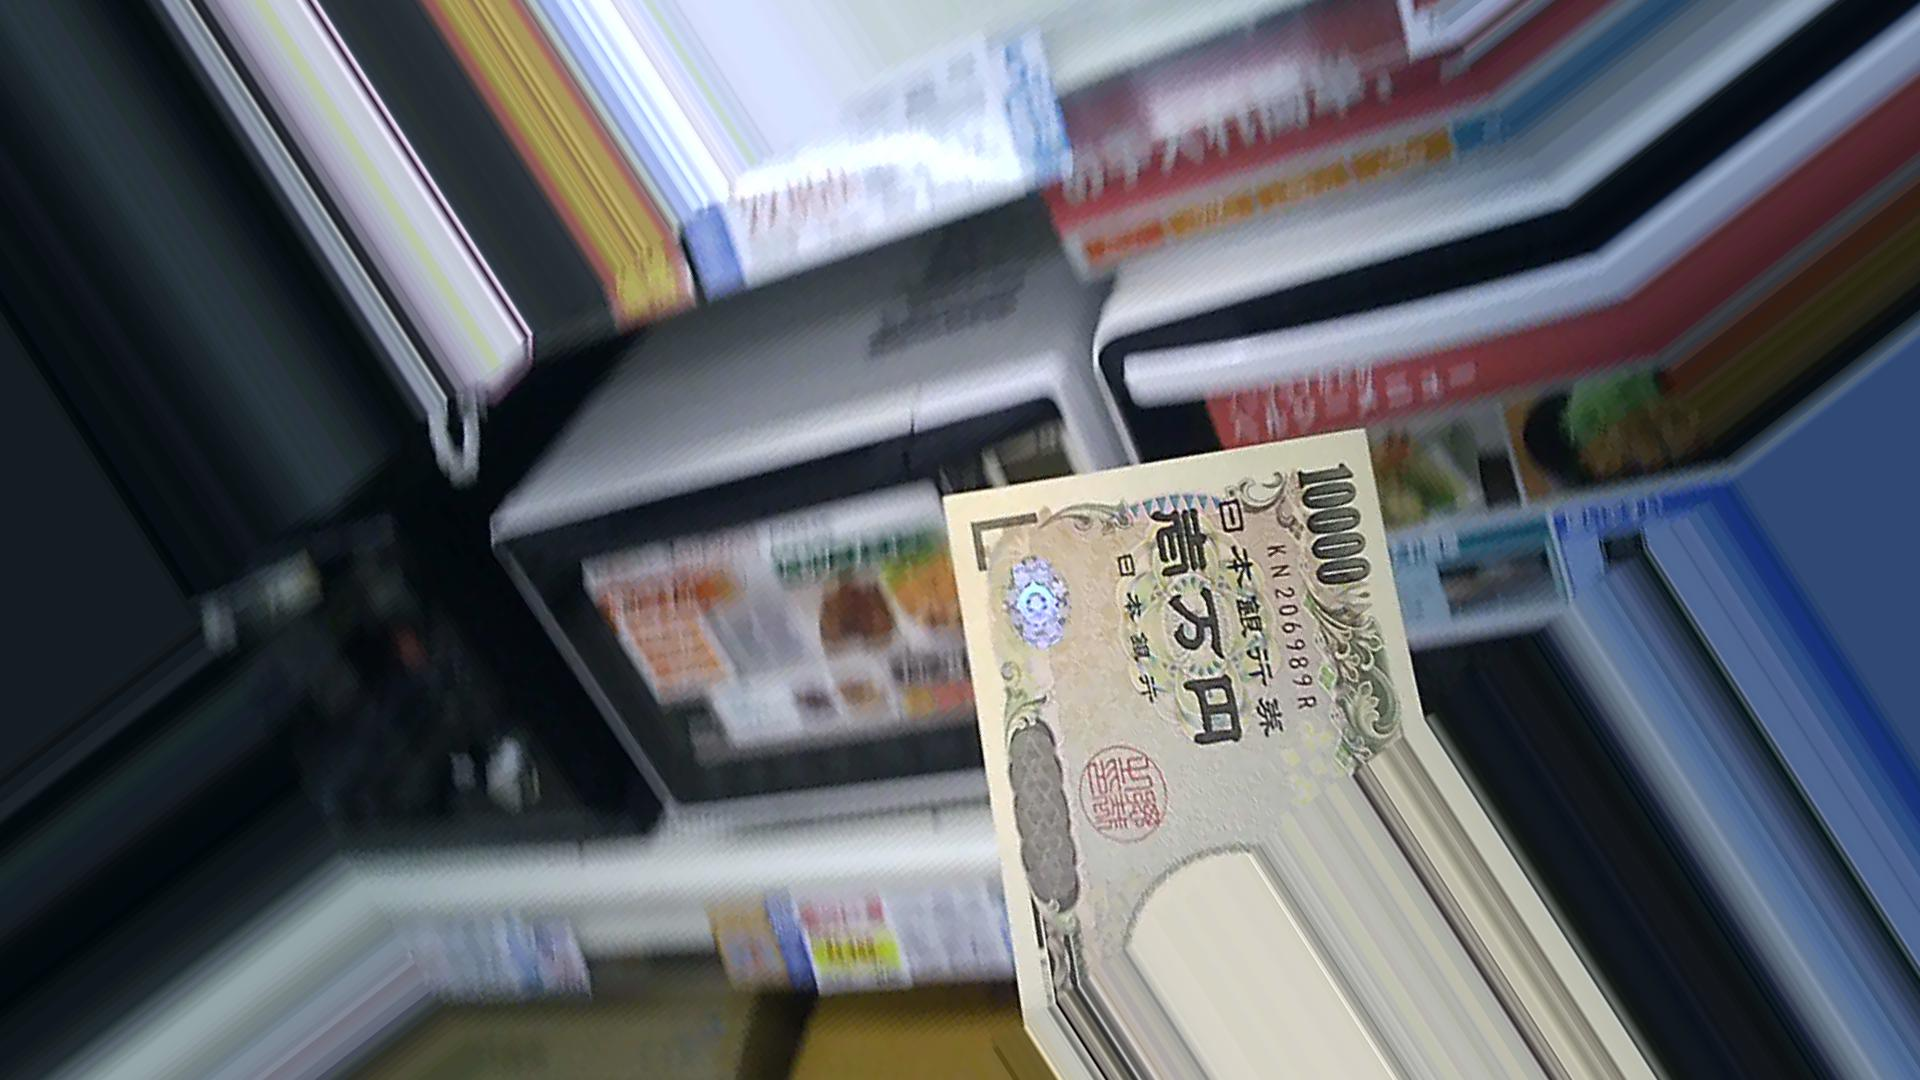10,000 Yen: (928, 467, 1420, 932)
